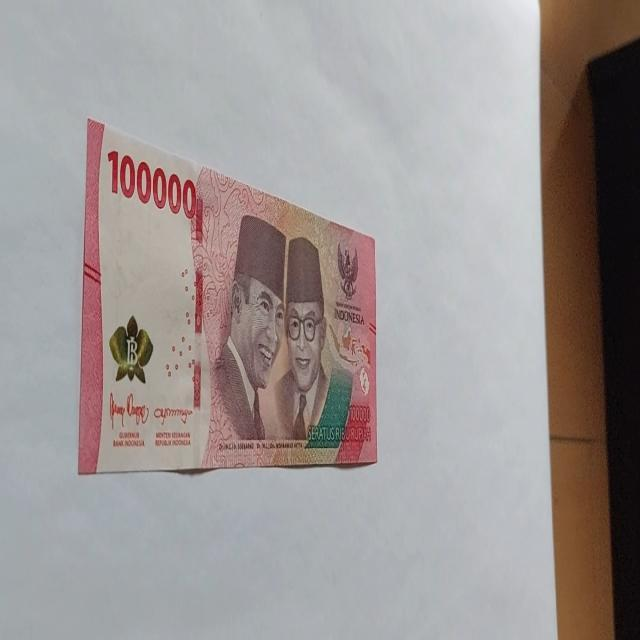seratus ribu rupiah: (77, 117, 379, 474)
